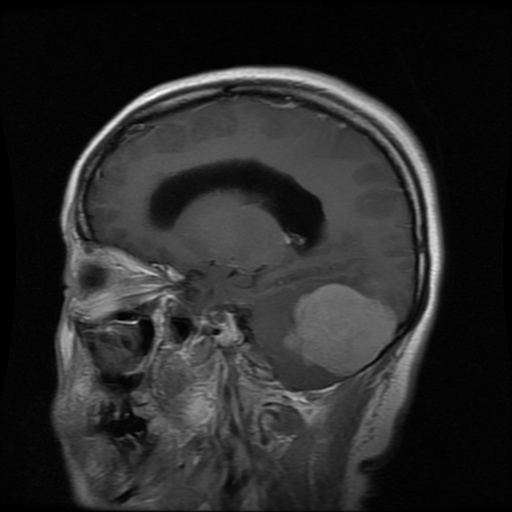meningioma: (289, 282, 396, 376)
